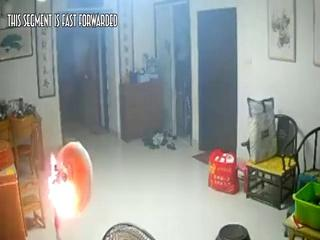Fire: (50, 153, 84, 239)
